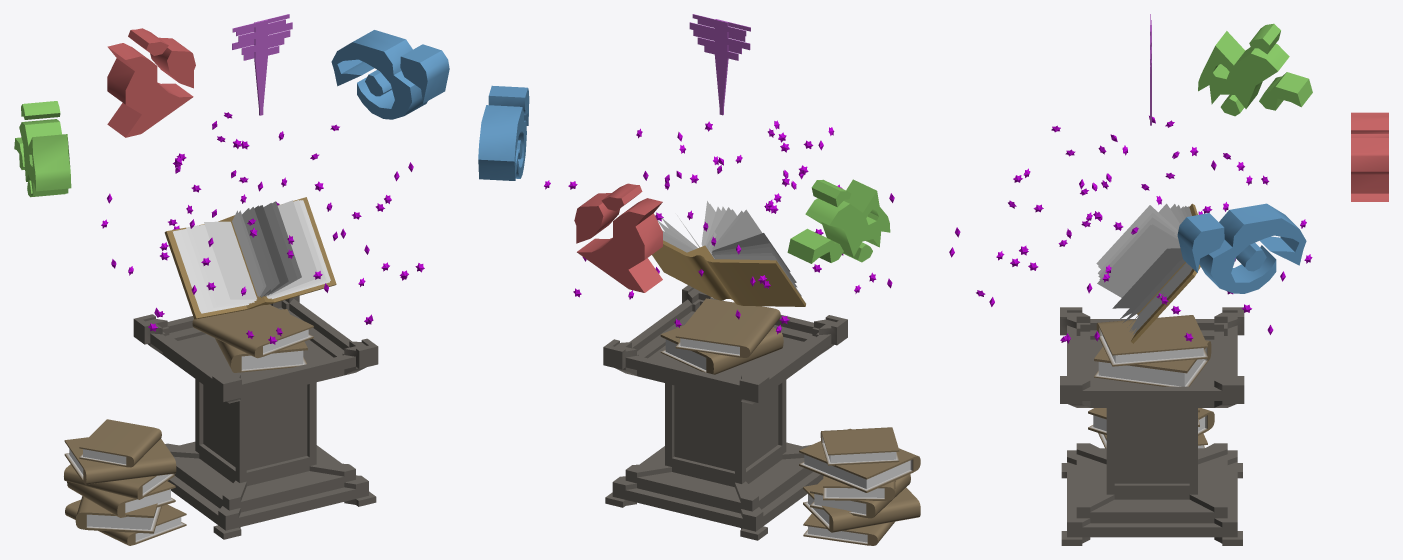
The model's file is spell.glb.
3 renders of one model, left to right at view 1: azimuth 30°, elevation 25°; view 2: azimuth 150°, elevation 25°; view 3: azimuth 270°, elevation 25°, orthographic. The views are drawn at different scales.
Parts seen in each view (by area): view 1: Object_2; view 2: Object_2; view 3: Object_2.
Boxes of the visible parts, left/top/right/bottom form: Object_2: left=14, top=14, right=449, bottom=545; Object_2: left=478, top=14, right=920, bottom=545; Object_2: left=949, top=14, right=1388, bottom=545.
Size of the model in its own units: 3.31 by 3.65 by 3.02.
